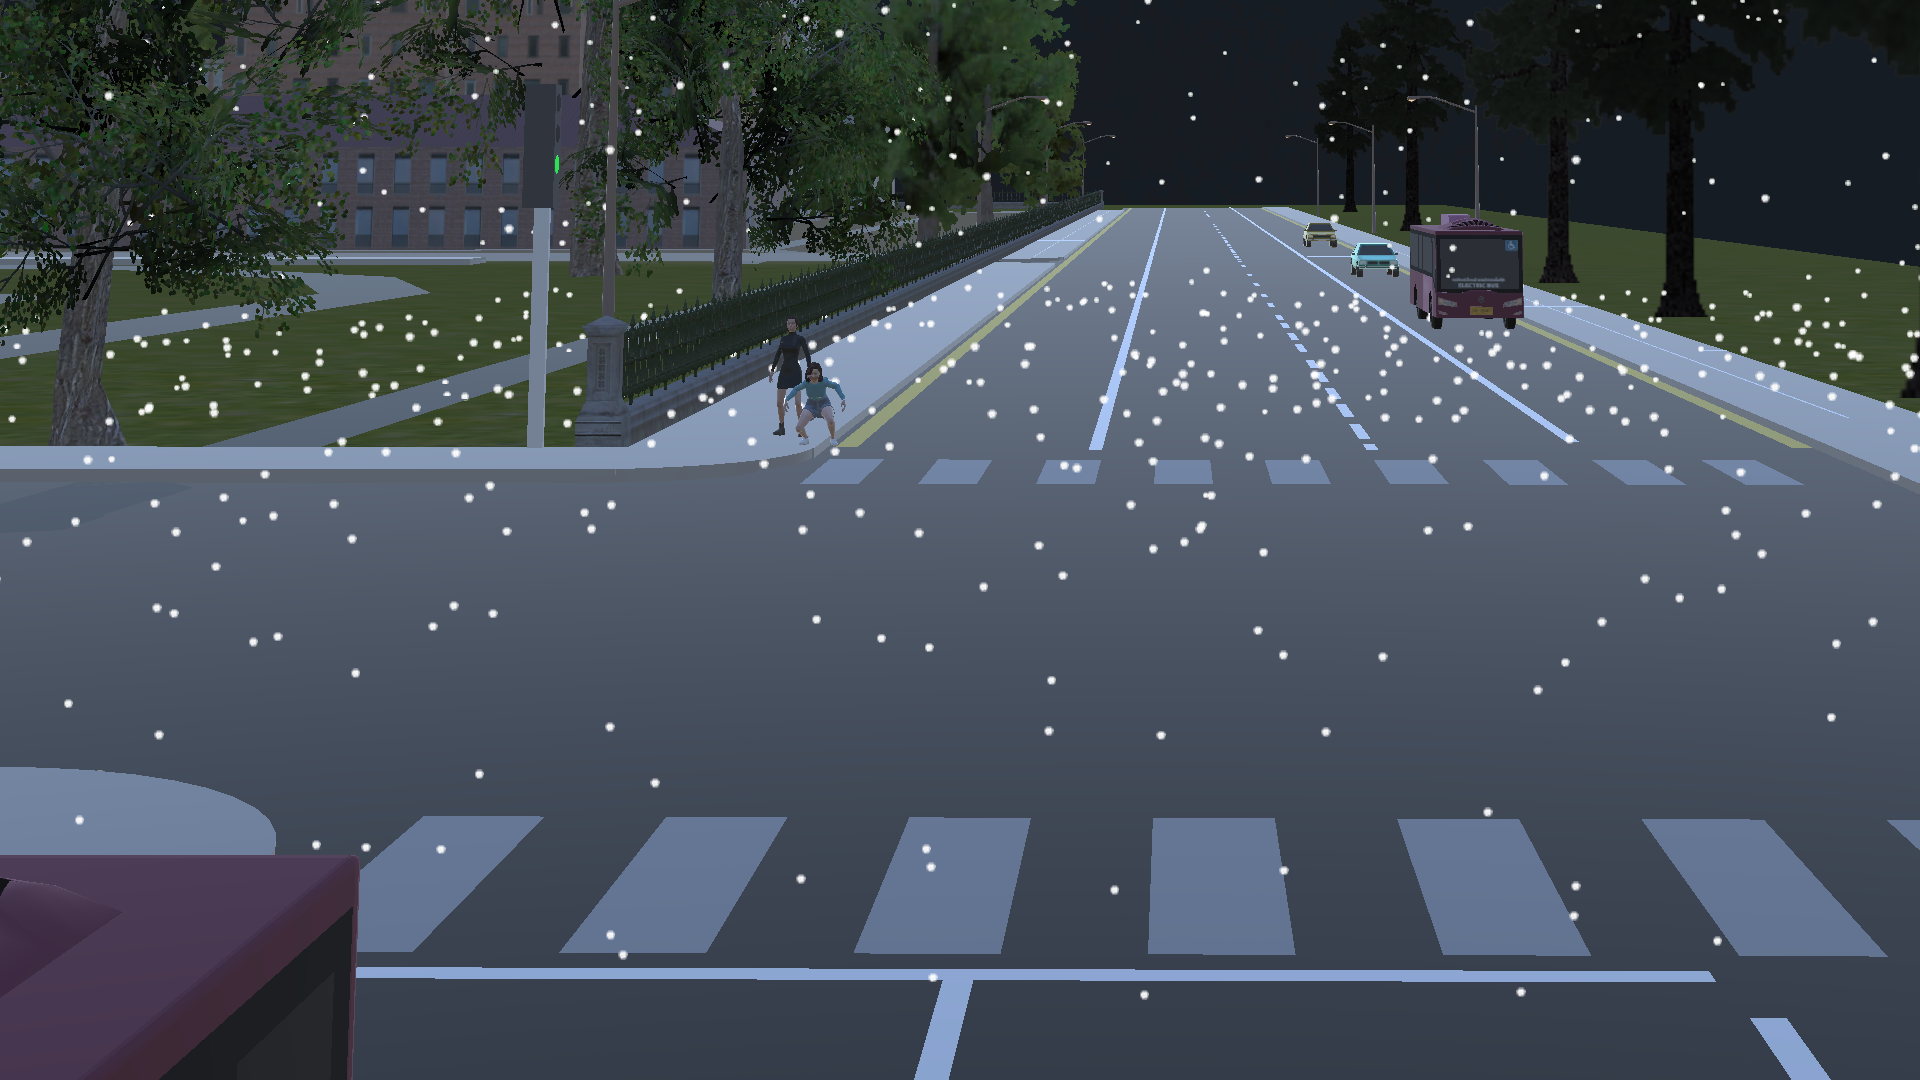pedestrian: (796, 360, 851, 464), (762, 307, 802, 448)
